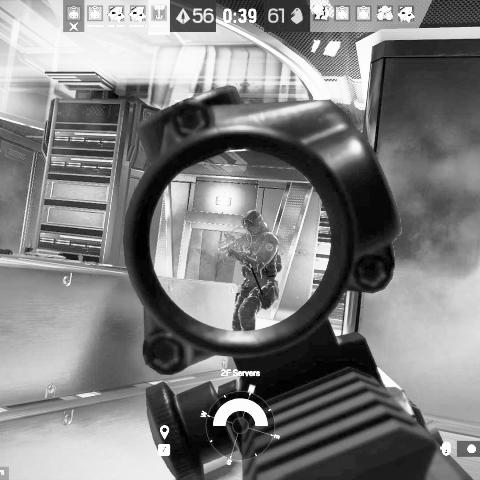Character: (213, 209, 283, 332)
Head: (241, 210, 265, 236)
